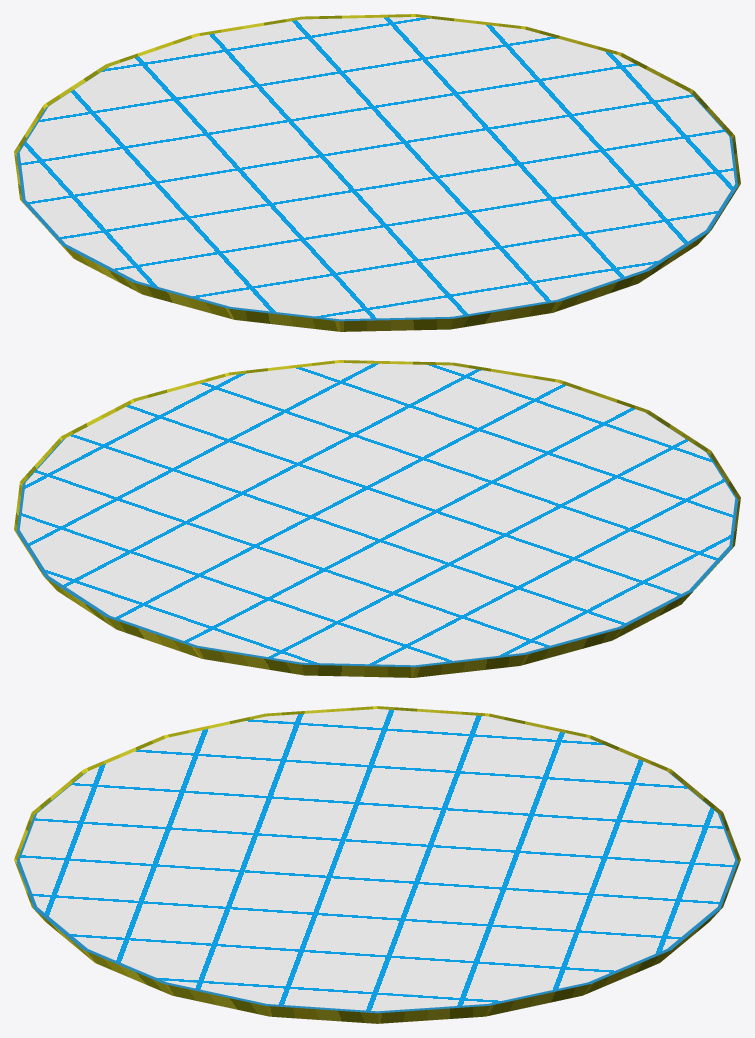
Rendered from MirrorL.dae.
3 views of the same model, one above another, from view 1: azimuth 30°, elevation 25°; view 2: azimuth 150°, elevation 25°; view 3: azimuth 270°, elevation 25° (orthographic).
Parts seen in each view (by area): view 1: n0b0; view 2: n0b0; view 3: n0b0.
Part boxes in pixels (<box>): n0b0: <box>14,14,740,331</box>; n0b0: <box>14,360,740,677</box>; n0b0: <box>14,706,740,1023</box>.
Size of the model in its own units: 3 by 3 by 0.51.
3 materials, 3 textured.
